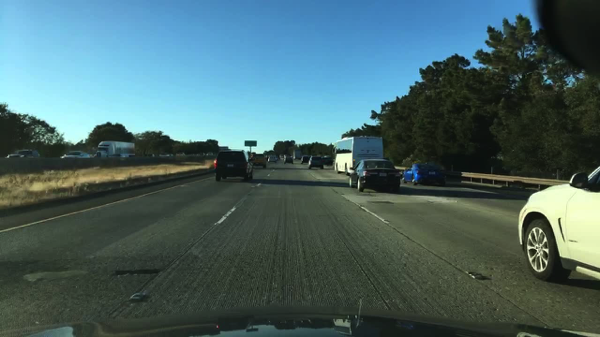bus: (333, 136, 383, 175)
car: (517, 165, 599, 281), (348, 160, 402, 194), (213, 149, 254, 183), (402, 160, 448, 187), (5, 149, 41, 159), (250, 154, 268, 170), (61, 150, 91, 159), (307, 155, 325, 169), (323, 157, 333, 167), (283, 155, 294, 164), (300, 155, 308, 165), (158, 153, 173, 158), (268, 155, 276, 163), (145, 153, 155, 158), (176, 153, 187, 157), (206, 151, 213, 156)
traffic sign: (244, 141, 257, 146)
truck: (94, 141, 137, 158)
